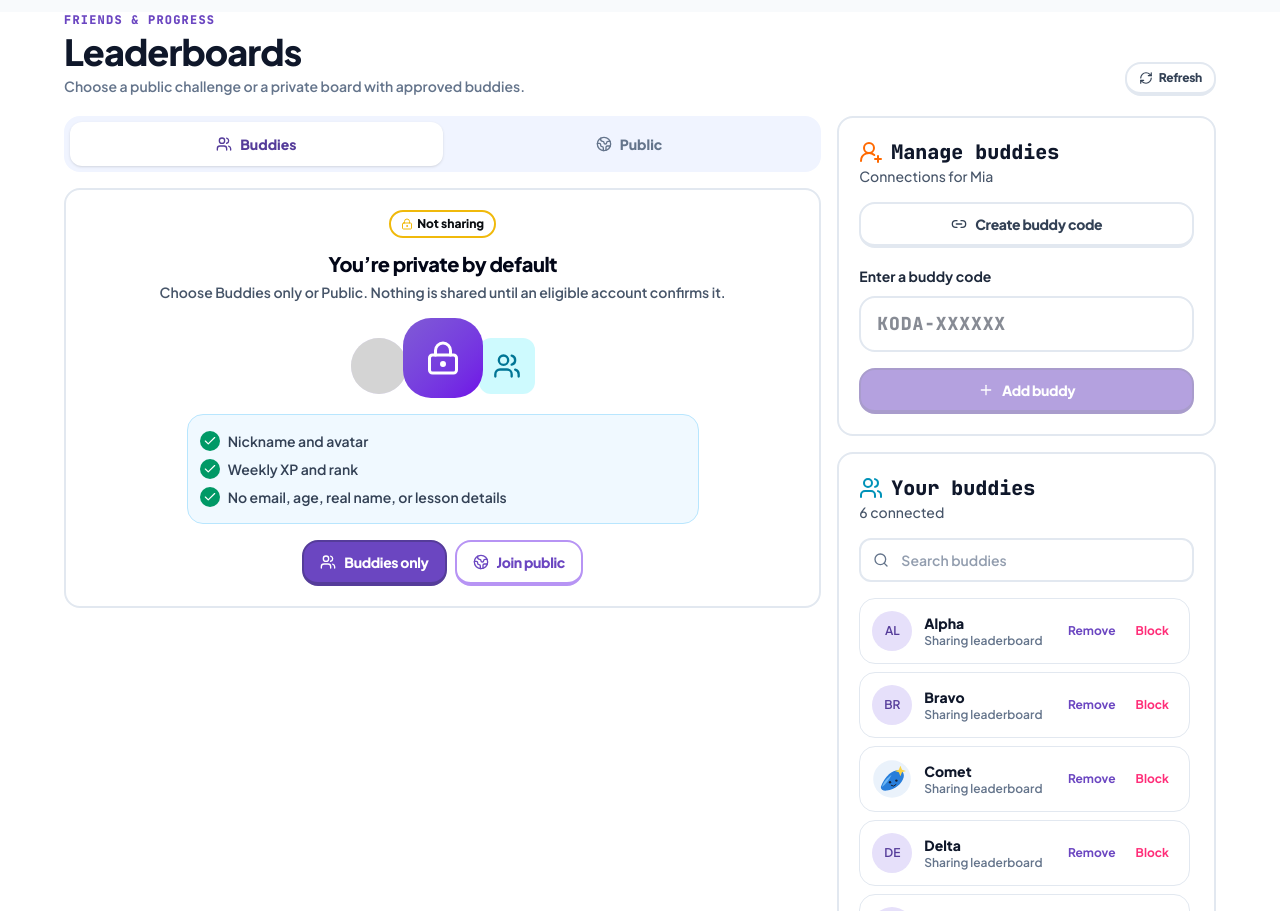
Test case: Buddy Leaderboard page › keeps a large buddy list searchable
Type "zeb" into the search field with placeholder "Search buddies" at (1027, 560), box [859,538,1194,582]
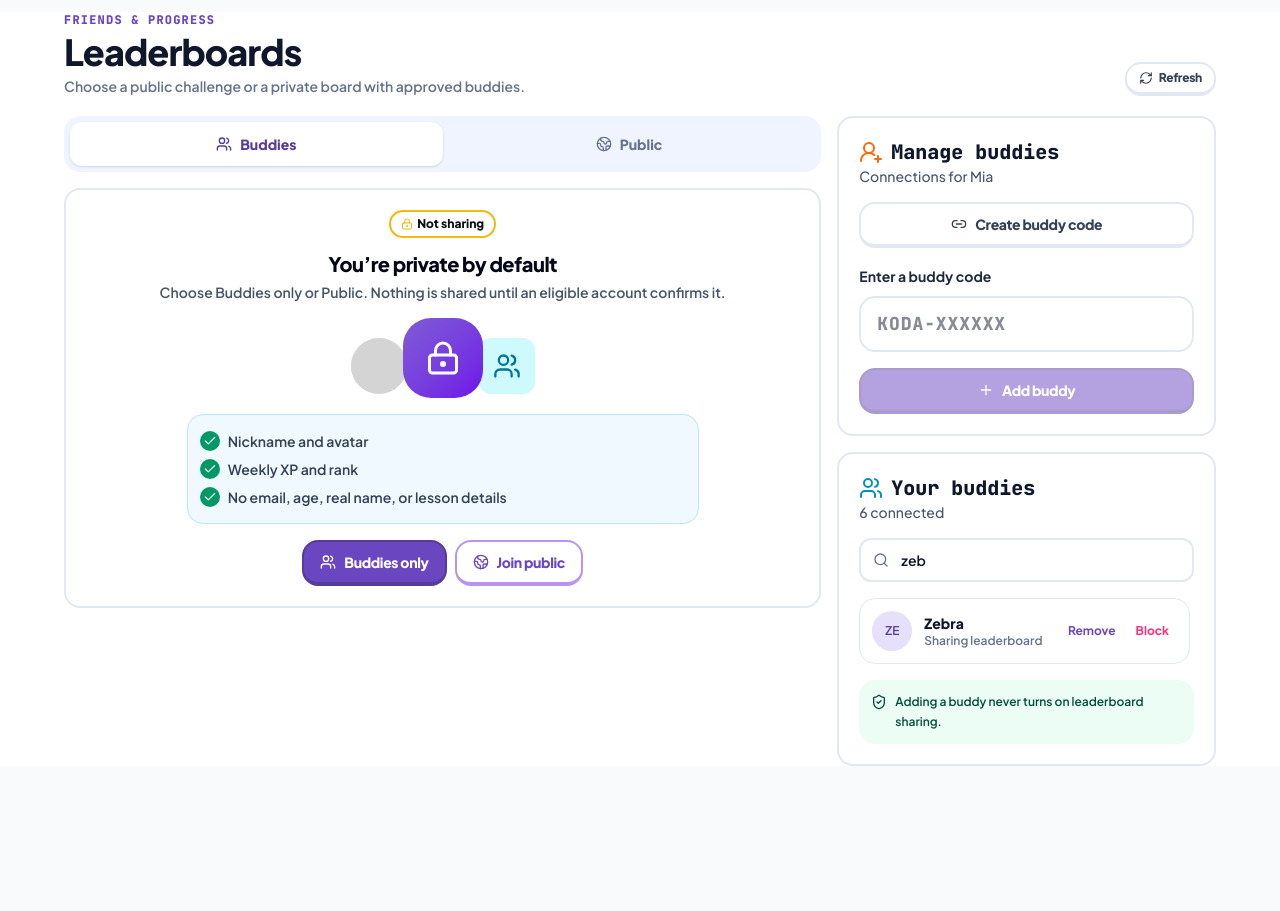
Expected: the text "Zebra" is shown, [924,614,964,632]
Now the text "Alpha" is gone
